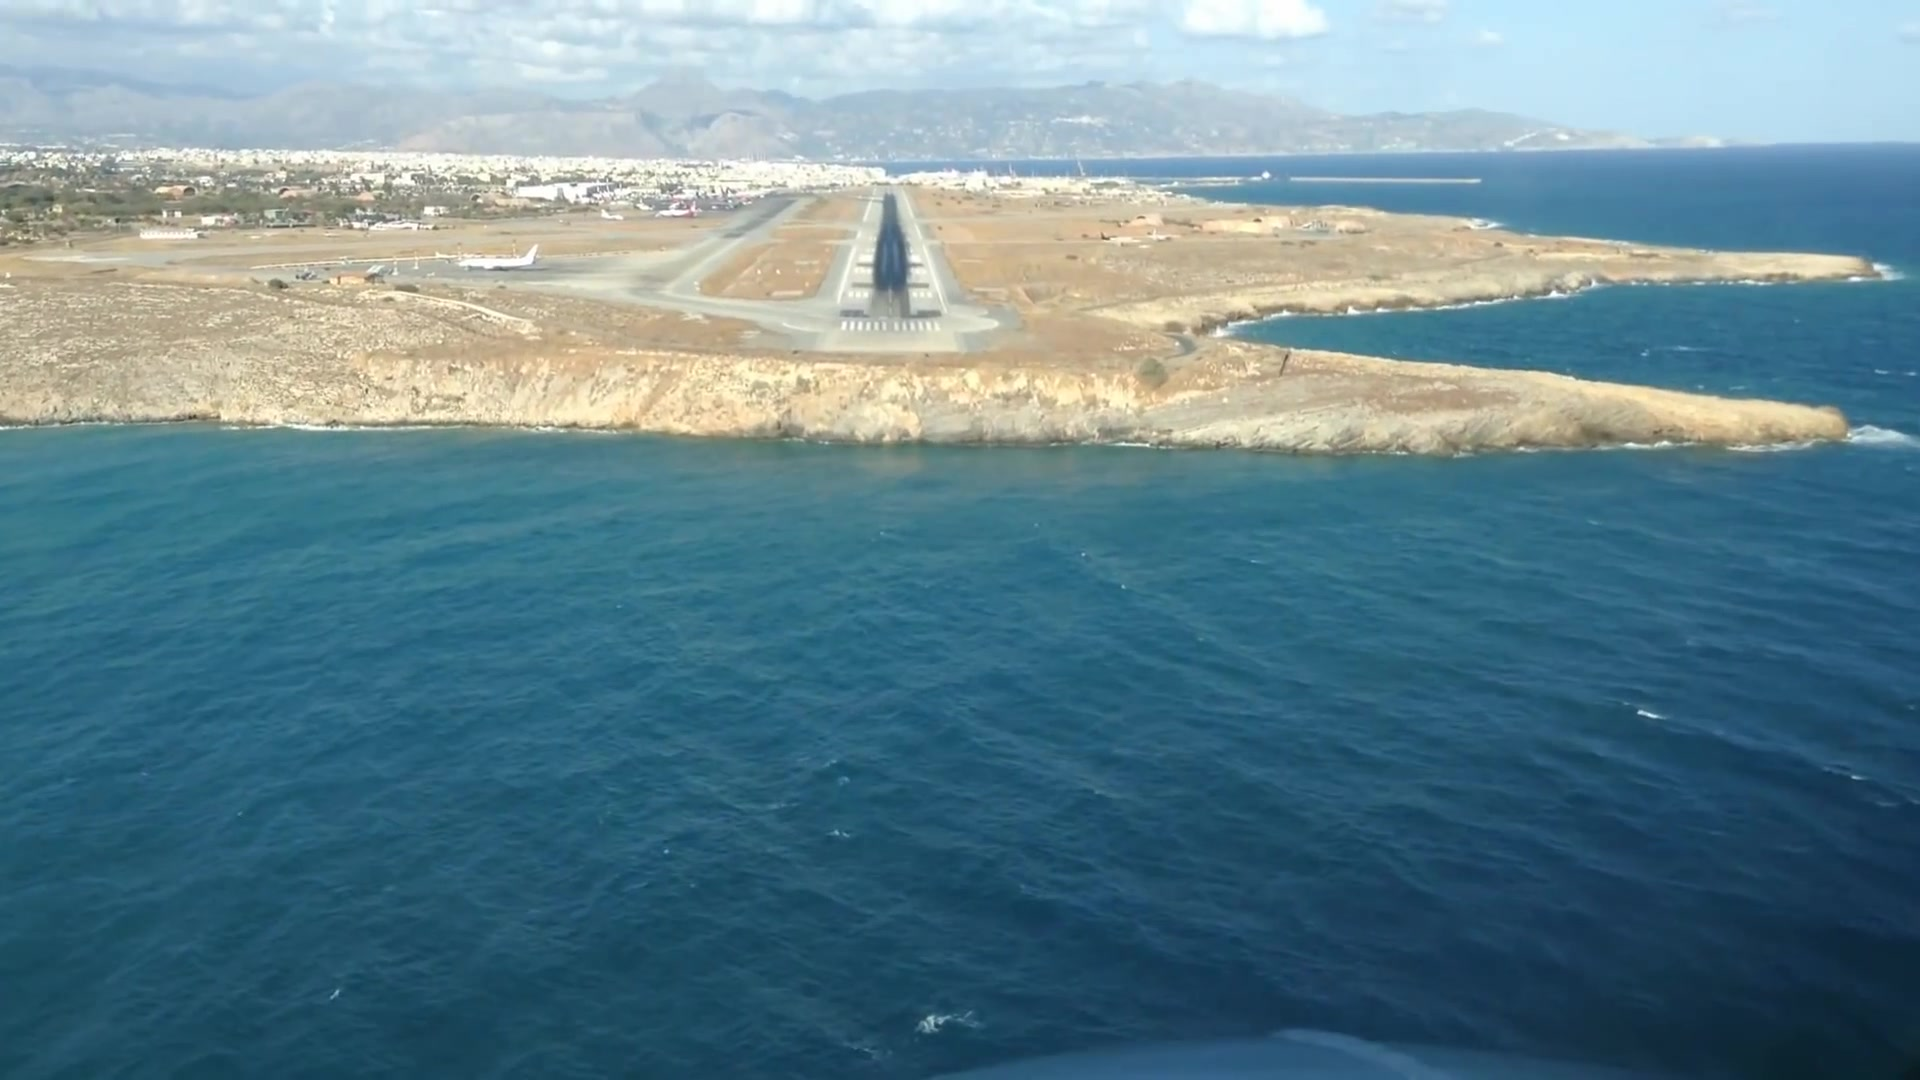entrance: (837, 320, 940, 334)
runway: (811, 181, 964, 353)
